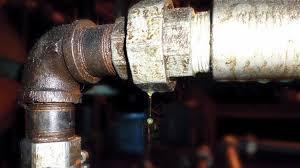leak: (134, 84, 175, 131)
